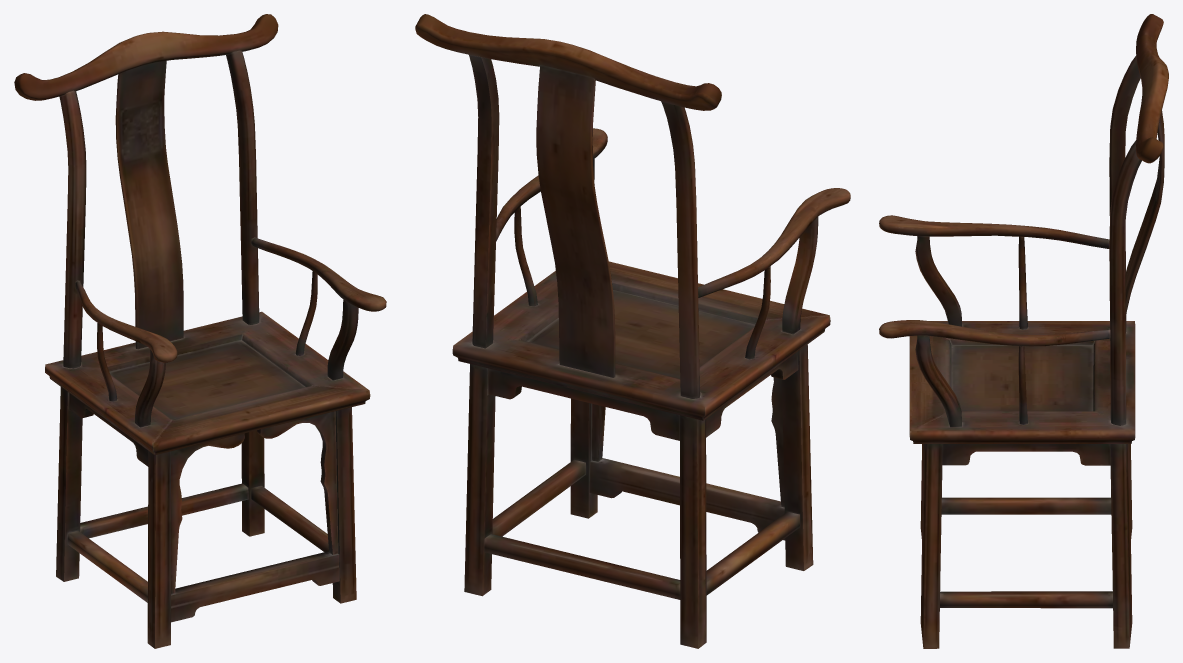
Rendered from chinese_armchair.glb.
3 views of the same model, side by side, from view 1: azimuth 30°, elevation 25°; view 2: azimuth 150°, elevation 25°; view 3: azimuth 270°, elevation 25° (orthographic). The views are drawn at different scales.
Visible parts, largest first — view 1: chinese_armchair; view 2: chinese_armchair; view 3: chinese_armchair.
Part boxes in pixels (left/top/right/bottom): chinese_armchair: left=14, top=14, right=386, bottom=648; chinese_armchair: left=415, top=14, right=850, bottom=648; chinese_armchair: left=879, top=14, right=1168, bottom=648.
Size of the model in its own units: 0.8483 by 1.59 by 0.7886.
Materials: 1 (1 with a texture image).
